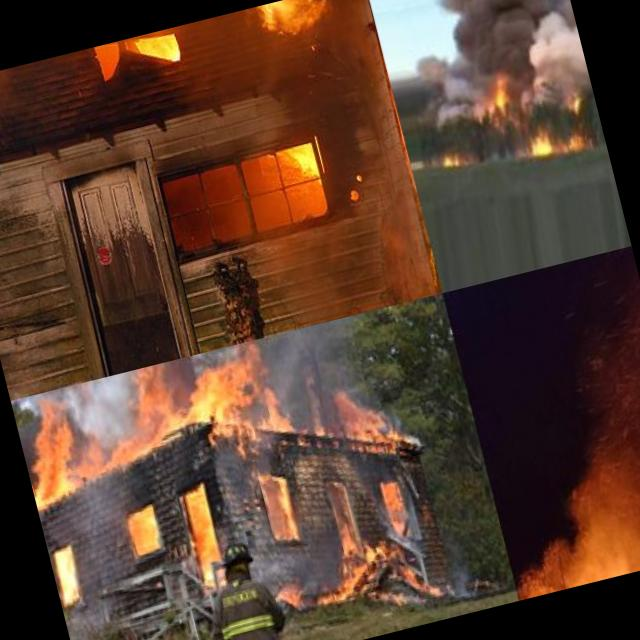fire: (11, 336, 298, 510), (314, 512, 424, 608), (225, 0, 340, 65), (44, 27, 180, 72), (337, 382, 411, 457), (179, 485, 226, 587), (47, 540, 89, 610), (270, 137, 322, 193), (528, 118, 593, 161), (486, 69, 522, 107), (437, 140, 471, 173)
smoke: (388, 0, 491, 127), (507, 514, 640, 600), (499, 0, 593, 109), (272, 316, 376, 414), (63, 484, 143, 604), (550, 436, 624, 556), (604, 432, 640, 571), (434, 524, 478, 604), (63, 600, 120, 640)
